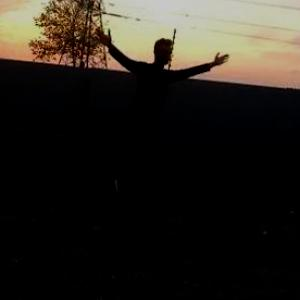takeoff: (92, 27, 225, 197)
